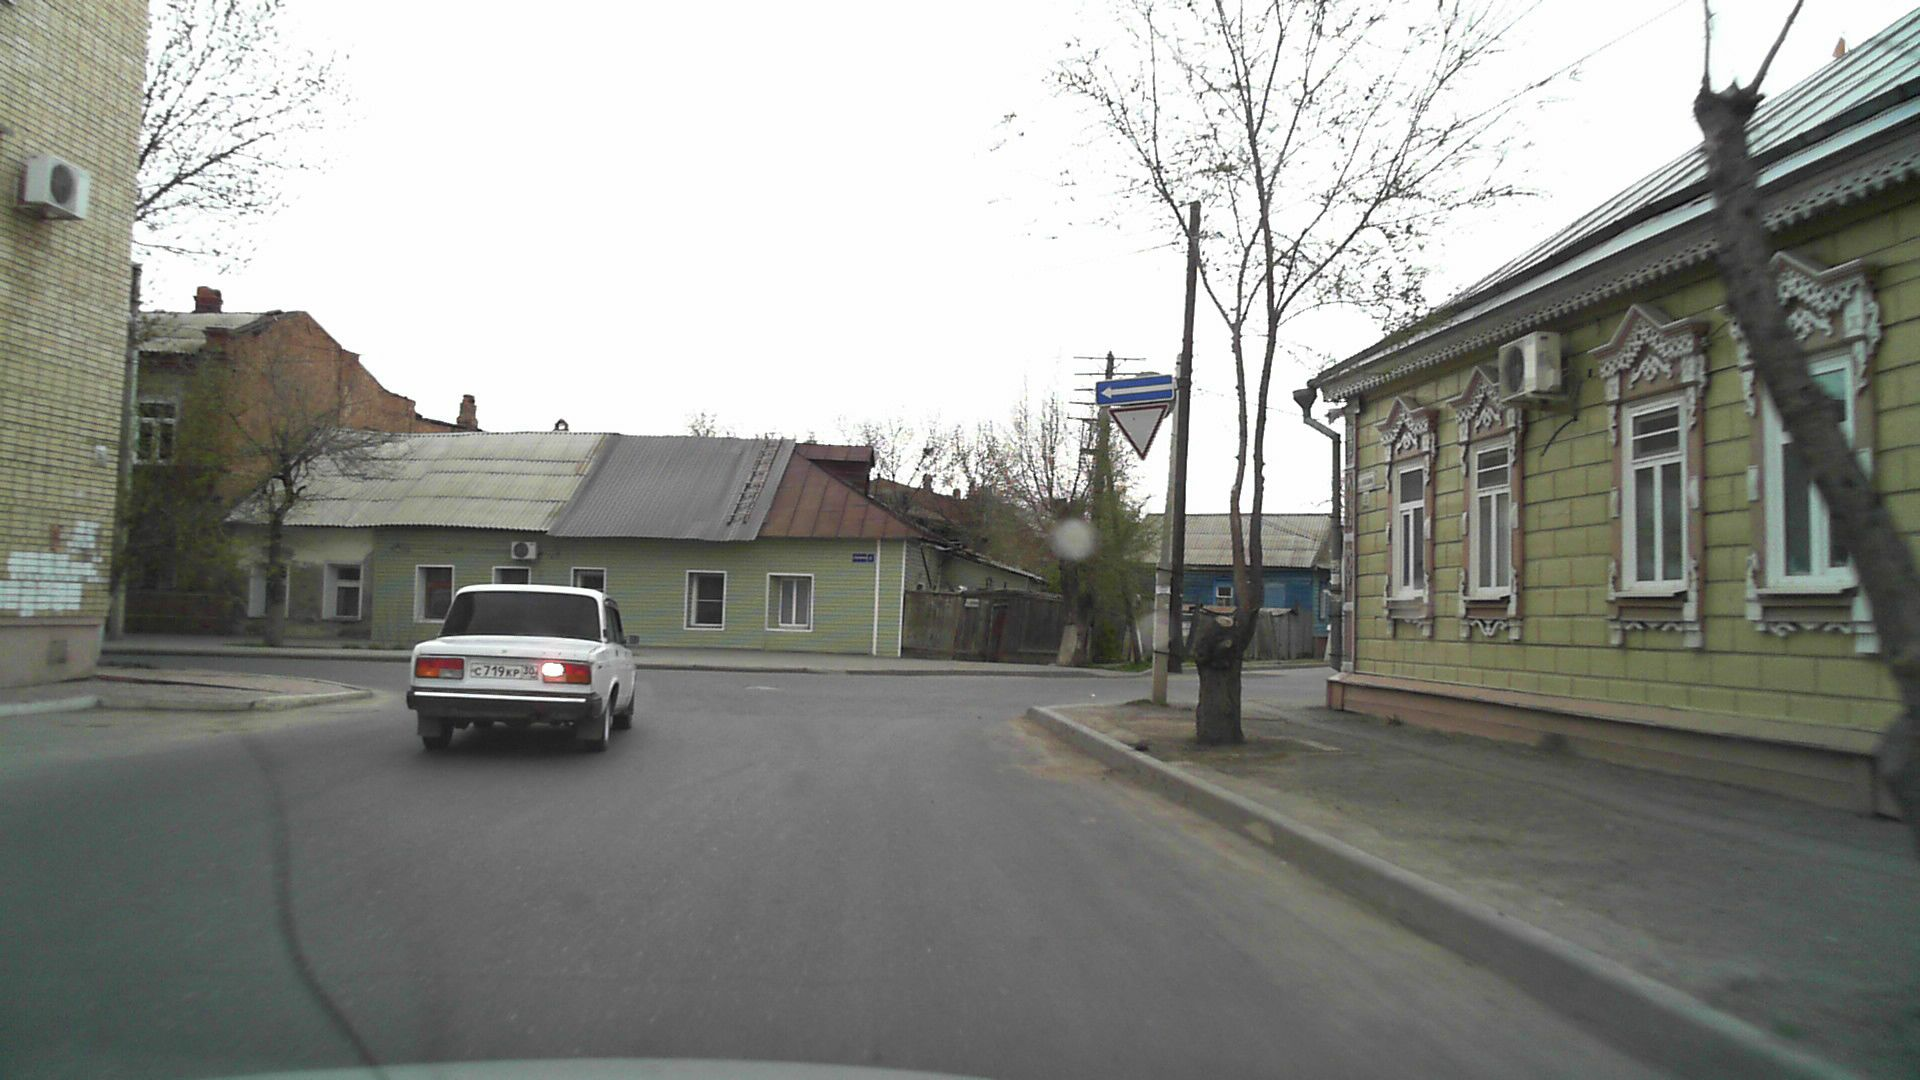One-Way Traffic: (1096, 375, 1174, 405)
